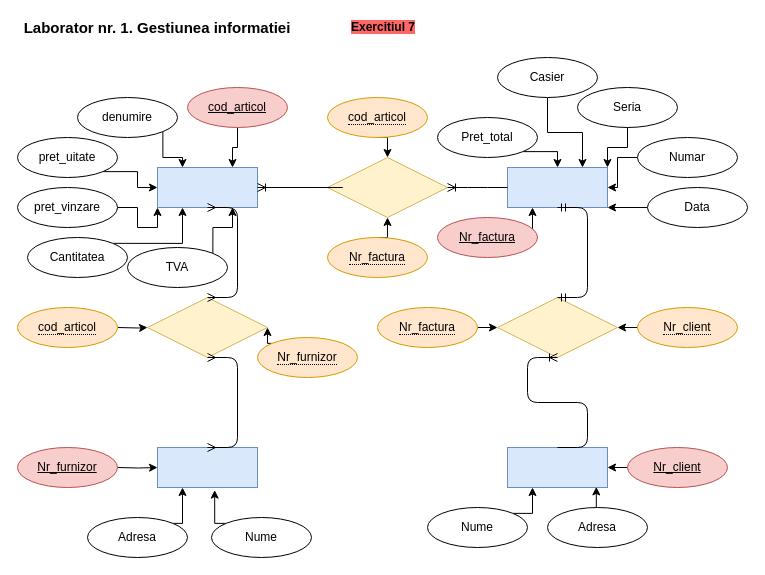
This 765x575 diagram has some shape labels left out. Here are the shapes that lost their labels. From the top down, the box of each, then its label:
(156, 166, 258, 208): Articol
(326, 156, 448, 218): Contine
(506, 166, 608, 208): Factura
(146, 296, 268, 358): Livreaza
(496, 296, 618, 358): Adresata
(156, 446, 258, 488): Furnizor
(506, 446, 608, 488): Client
